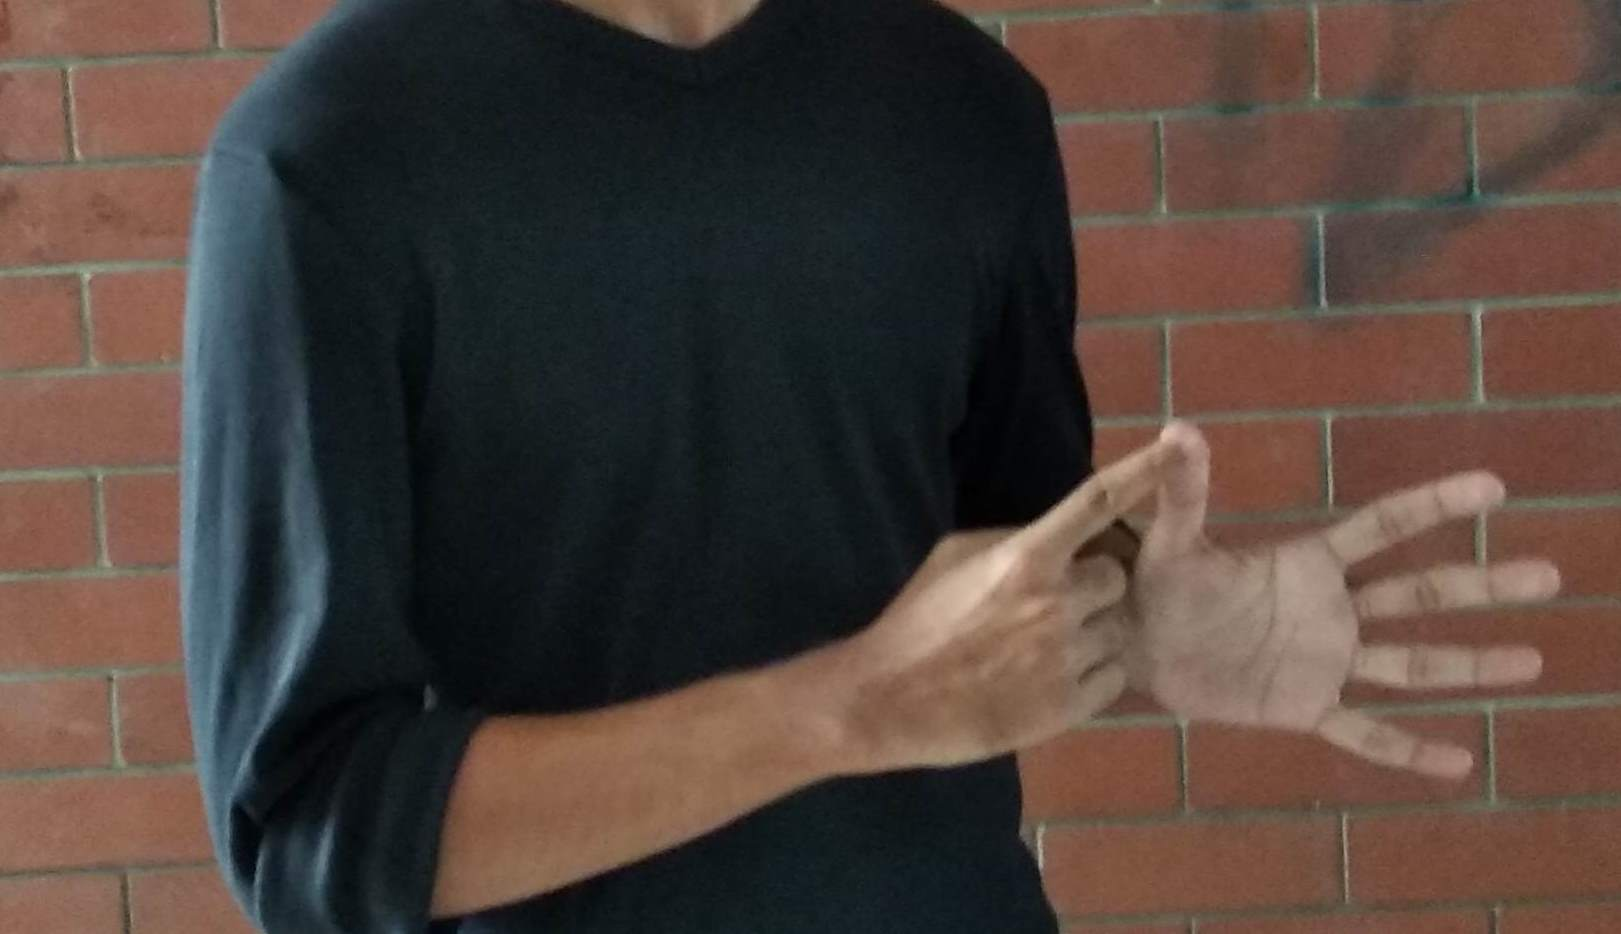a: (998, 420, 1532, 781)
